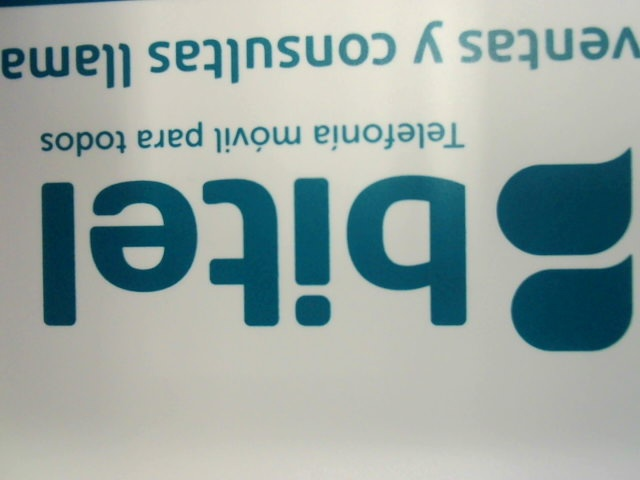BE_bitel: (25, 155, 638, 360)
